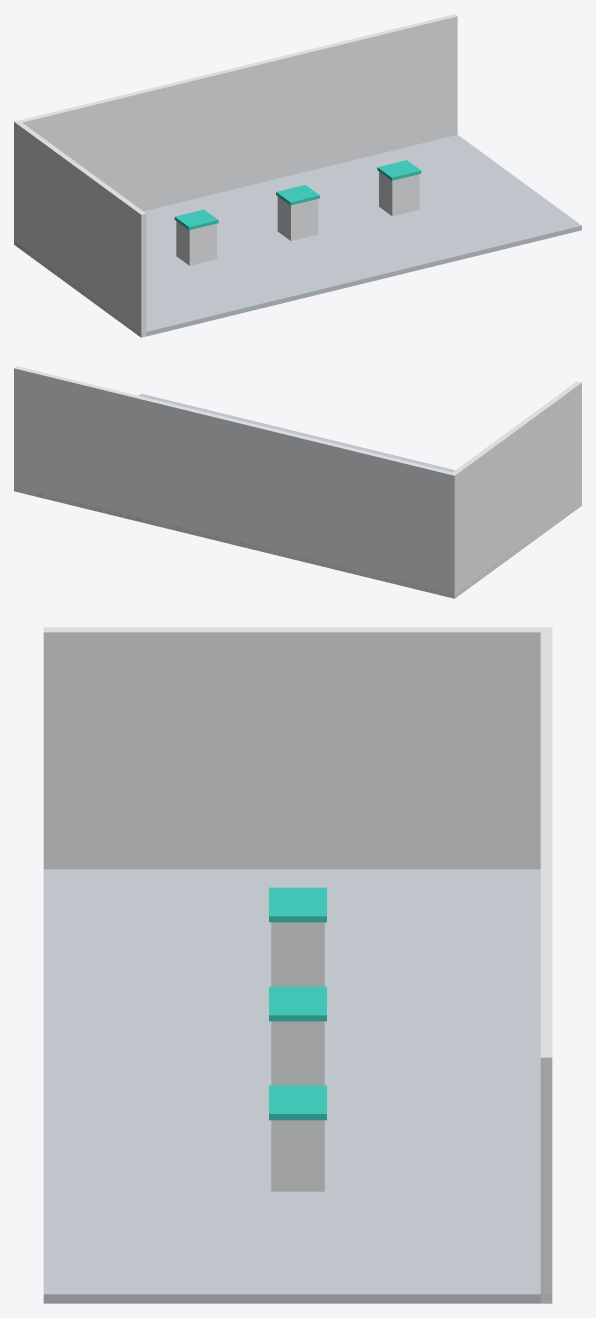
The picture shows the model from 3 angles, top to bottom: view 1: azimuth 30°, elevation 25°; view 2: azimuth 150°, elevation 25°; view 3: azimuth 270°, elevation 25°; orthographic projection. The views are drawn at different scales.
Visible parts, largest first — view 1: Exhibition Booth Concept; view 2: Exhibition Booth Concept; view 3: Exhibition Booth Concept.
Boxes of the visible parts, x1,y1,x2,y2 form: Exhibition Booth Concept: (14, 14, 581, 337); Exhibition Booth Concept: (14, 366, 581, 598); Exhibition Booth Concept: (43, 627, 552, 1303).
Bounding box in the file's own units: 12 × 3.2 × 6.
